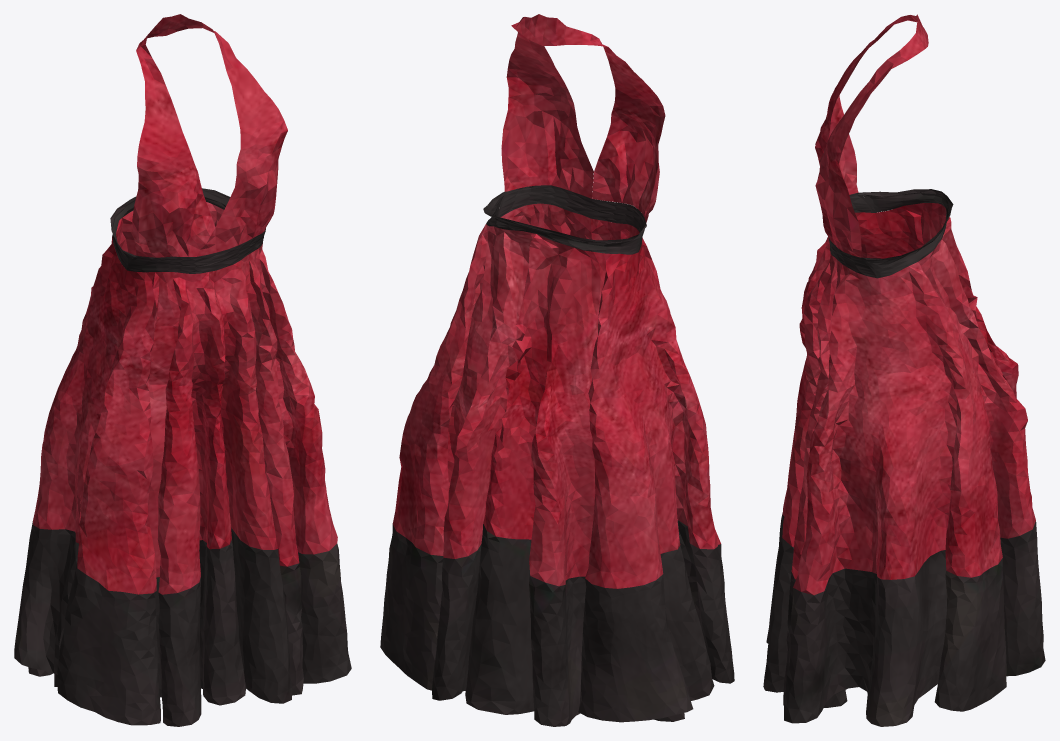
Rendered from mhw_elvs_halter_dress_long.glb.
3 views of the same model, side by side, from view 1: azimuth 30°, elevation 25°; view 2: azimuth 150°, elevation 25°; view 3: azimuth 270°, elevation 25° (orthographic). The views are drawn at different scales.
Parts seen in each view (by area): view 1: mhw_elvs_halter_dress_long; view 2: mhw_elvs_halter_dress_long; view 3: mhw_elvs_halter_dress_long.
Part boxes in pixels (x1,y1,x2,y2): mhw_elvs_halter_dress_long: (14,14,351,726); mhw_elvs_halter_dress_long: (380,14,734,726); mhw_elvs_halter_dress_long: (763,14,1045,726).
Size of the model in its own units: 0.6768 by 1.42 by 0.5519.
1 material, 1 textured.
